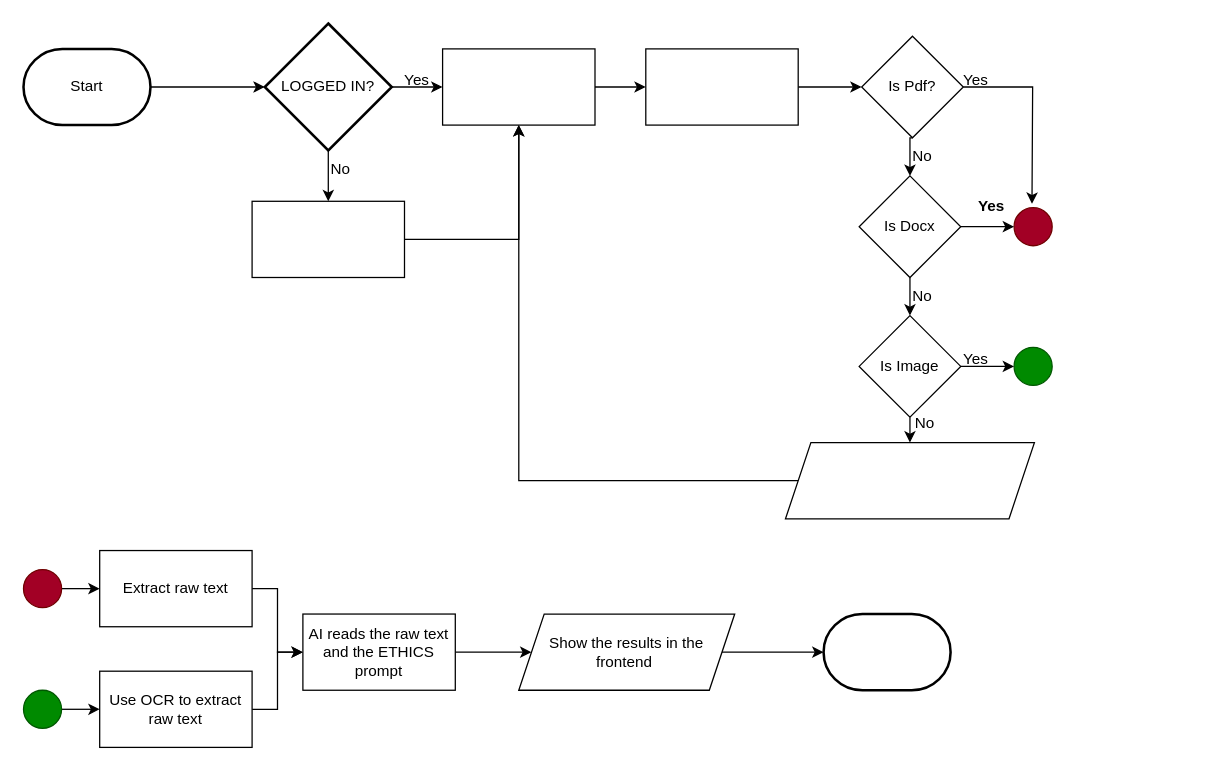
The diagram is 1213 pixels wide and 770 high, and some of its shapes have lost their labels. The box of each missing label's shape, as (x1, y1, x2, y2) in pixels:
Create an Account: (251, 200, 404, 277)
End: (822, 612, 951, 691)
Format isnt supported try using other format: (784, 441, 1034, 519)
Go to dashboard: (441, 48, 595, 125)
Upload: (645, 48, 798, 125)
